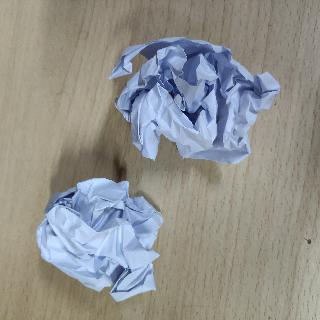8/可回收垃圾/纸: (107, 36, 282, 166), (35, 176, 164, 305)
